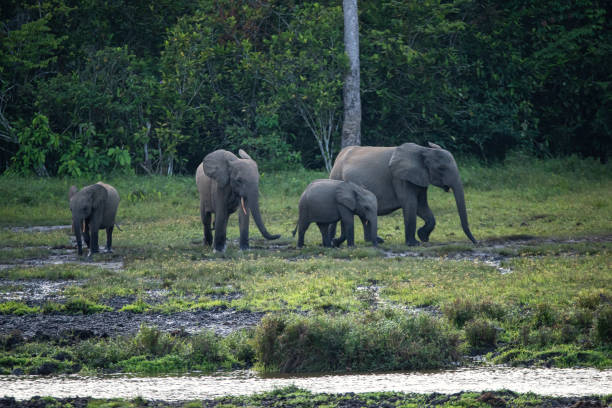africanelephant: (227, 158, 261, 214)
